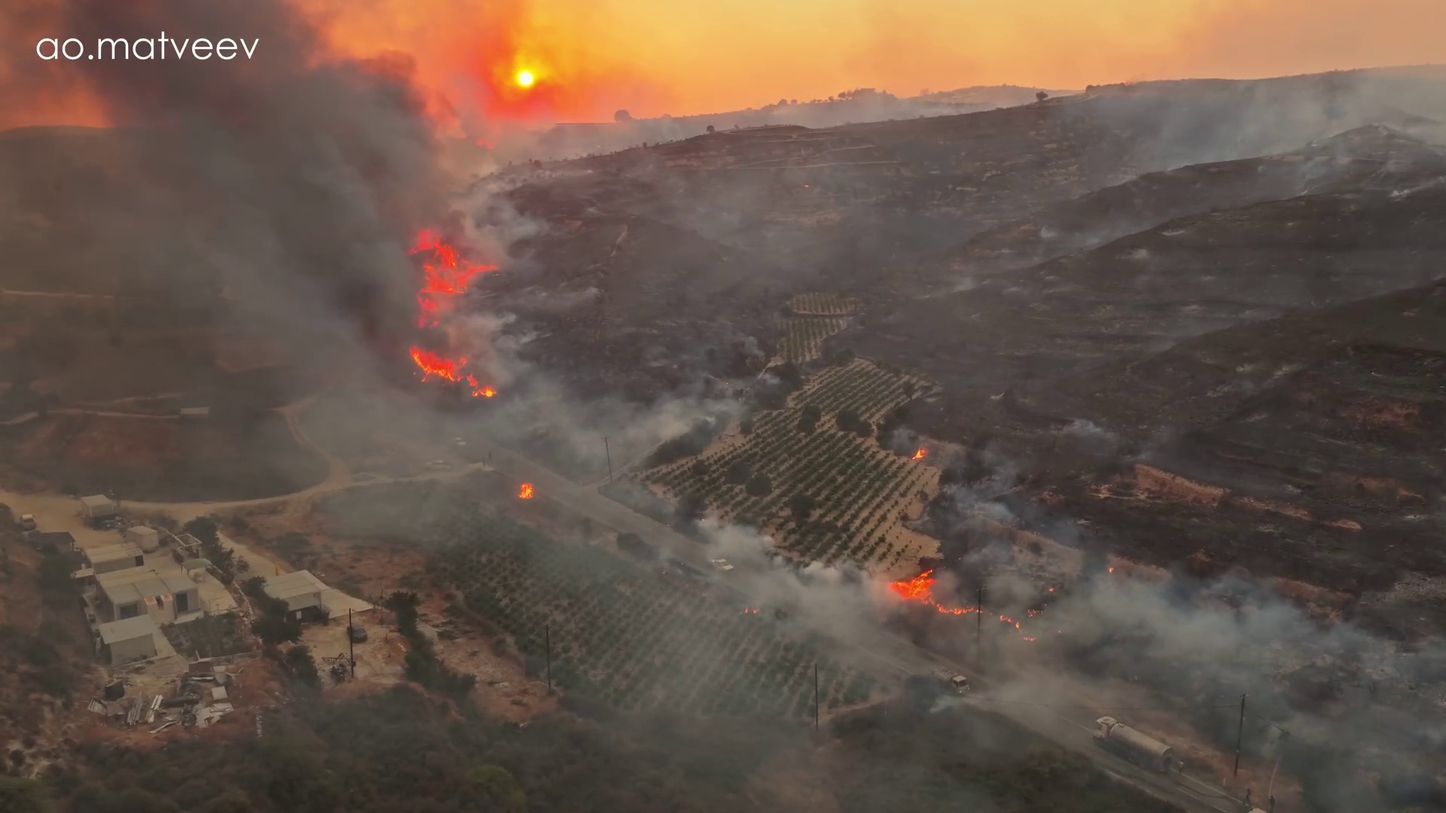forest_fire: (408, 228, 496, 327), (410, 346, 495, 397), (887, 568, 980, 614), (999, 614, 1021, 629), (518, 483, 533, 499), (911, 448, 926, 459), (1030, 611, 1041, 616), (1024, 638, 1033, 640)
